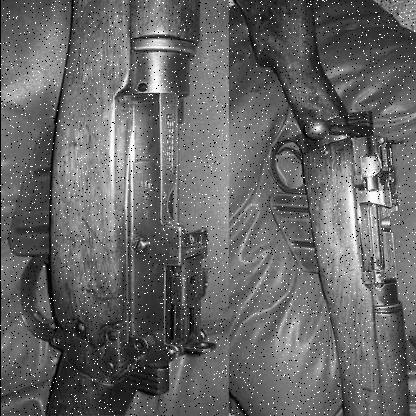rifle: (1, 0, 216, 415), (232, 0, 416, 416)
